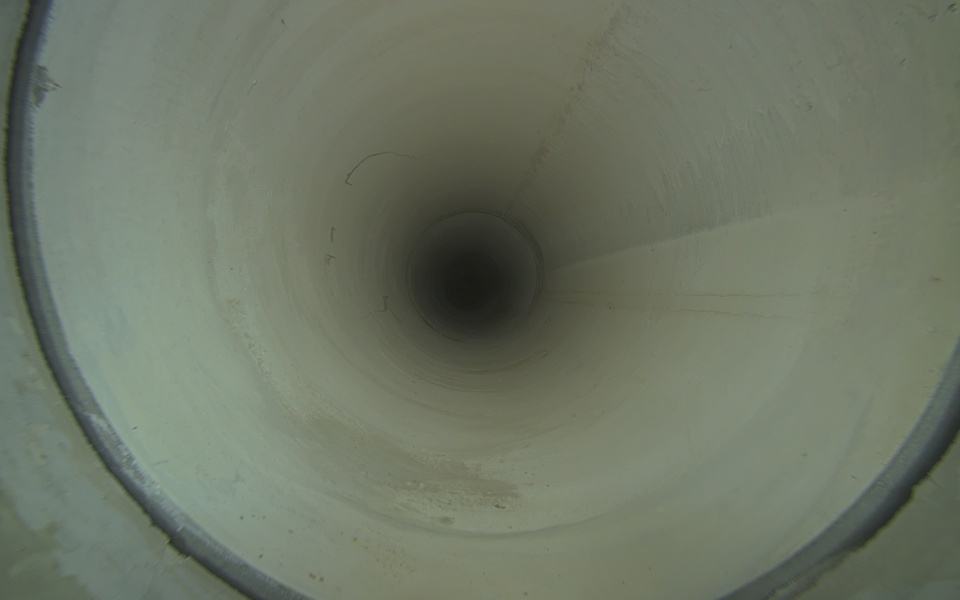circle1: (405, 206, 543, 344)
circle2: (453, 265, 490, 303)
